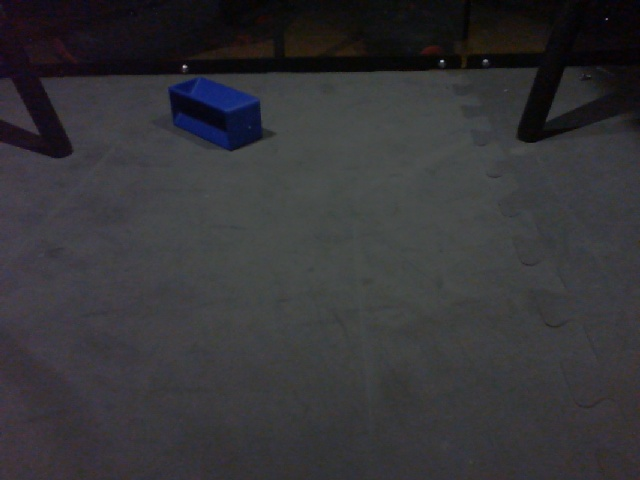BlueSample: (165, 76, 266, 154)
